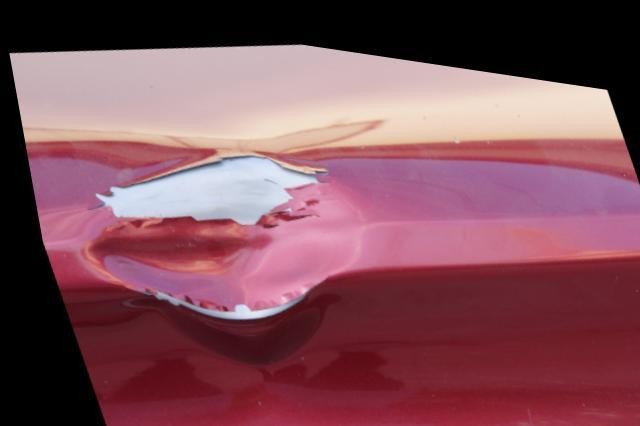dent: (73, 144, 357, 310)
